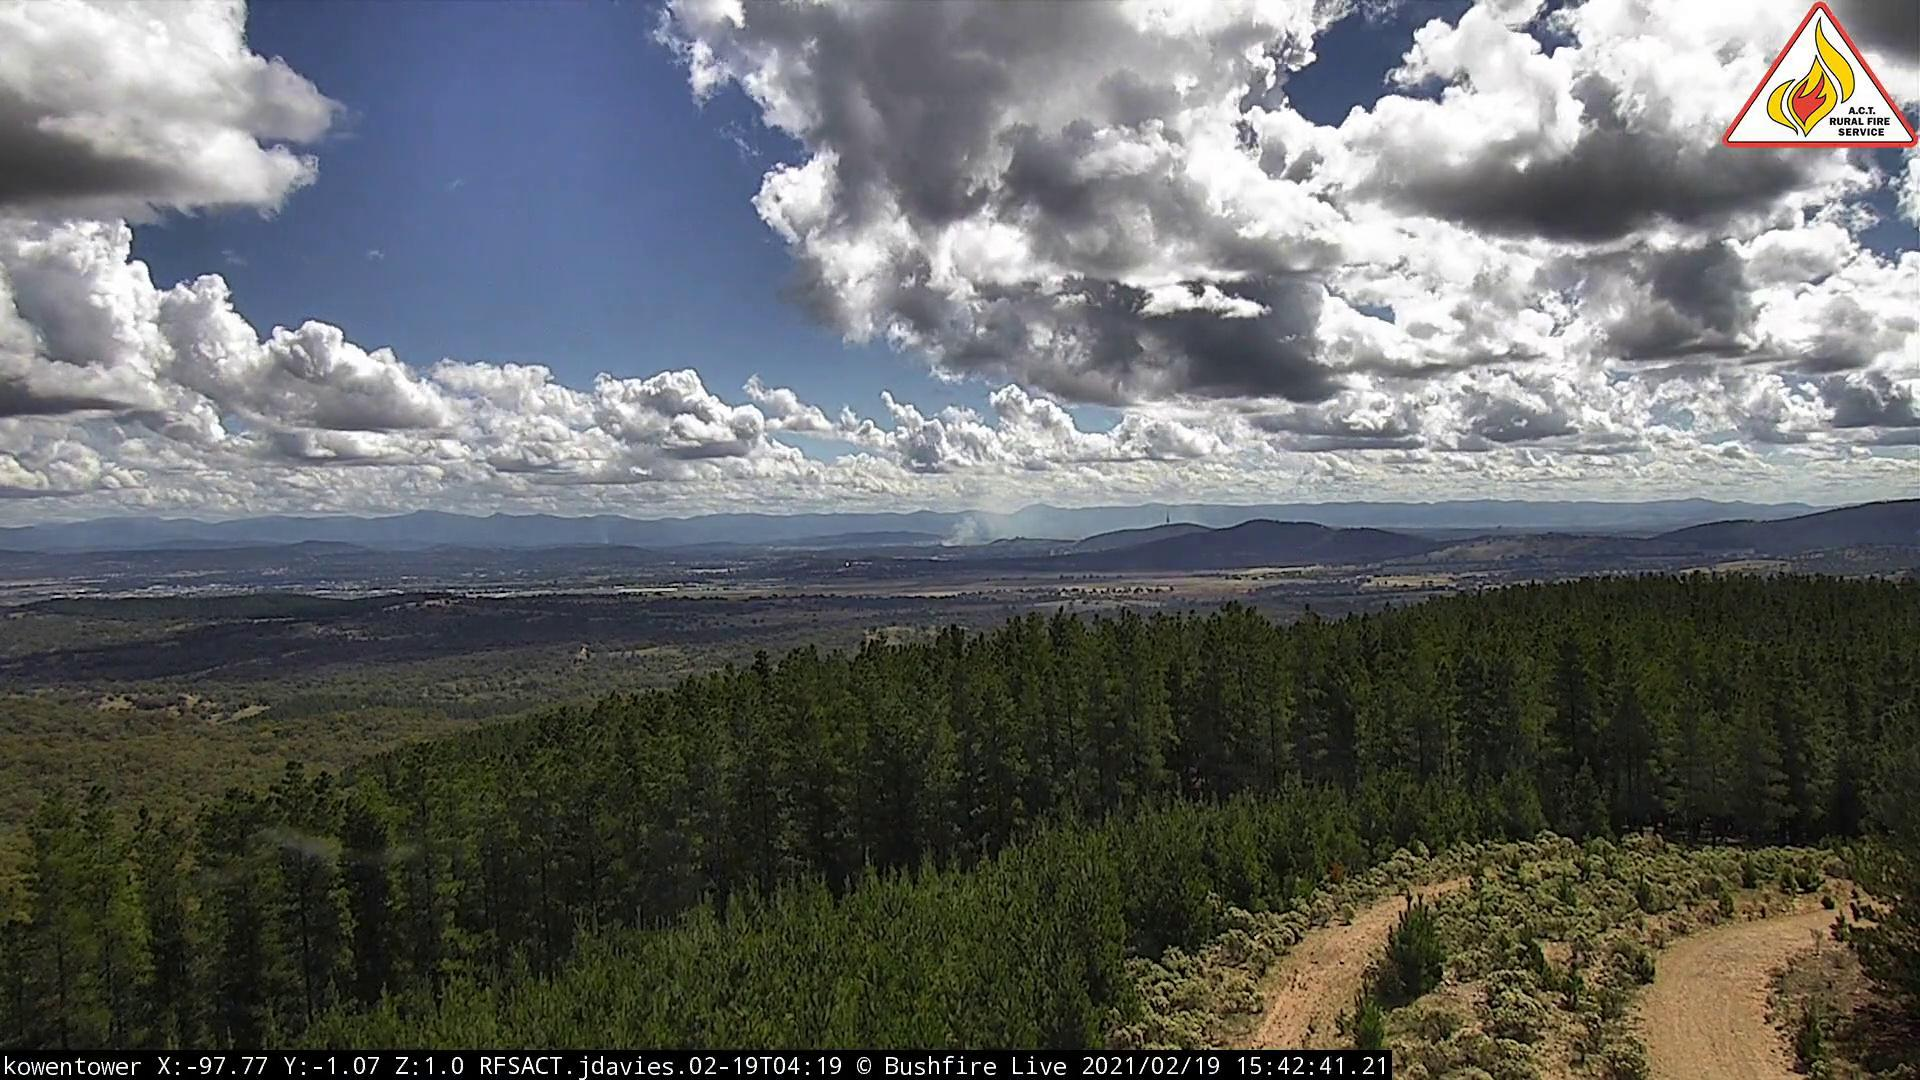instance_salient_object: (931, 500, 1021, 553), (603, 531, 620, 553)
